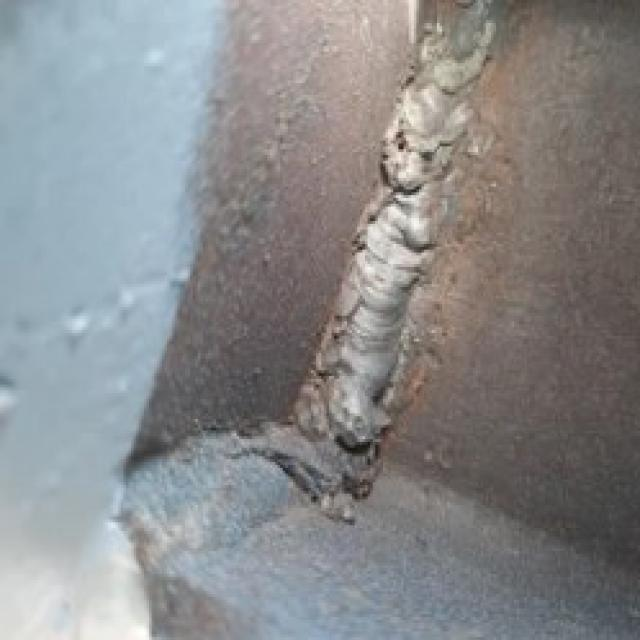Bad Weld: (314, 8, 486, 490), (123, 419, 378, 551)
